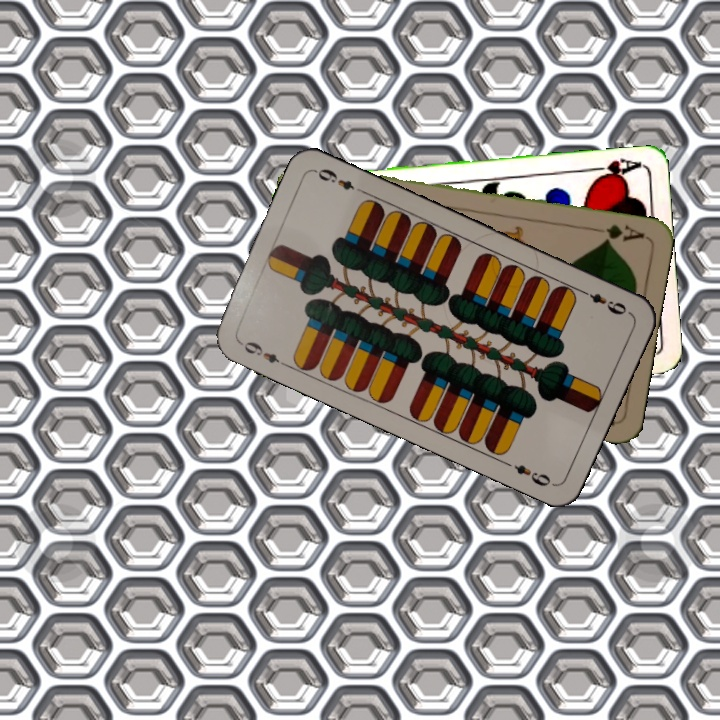E9: (235, 336, 290, 370), (576, 285, 632, 318)
GA: (588, 220, 647, 245)
HA: (583, 154, 642, 183)
